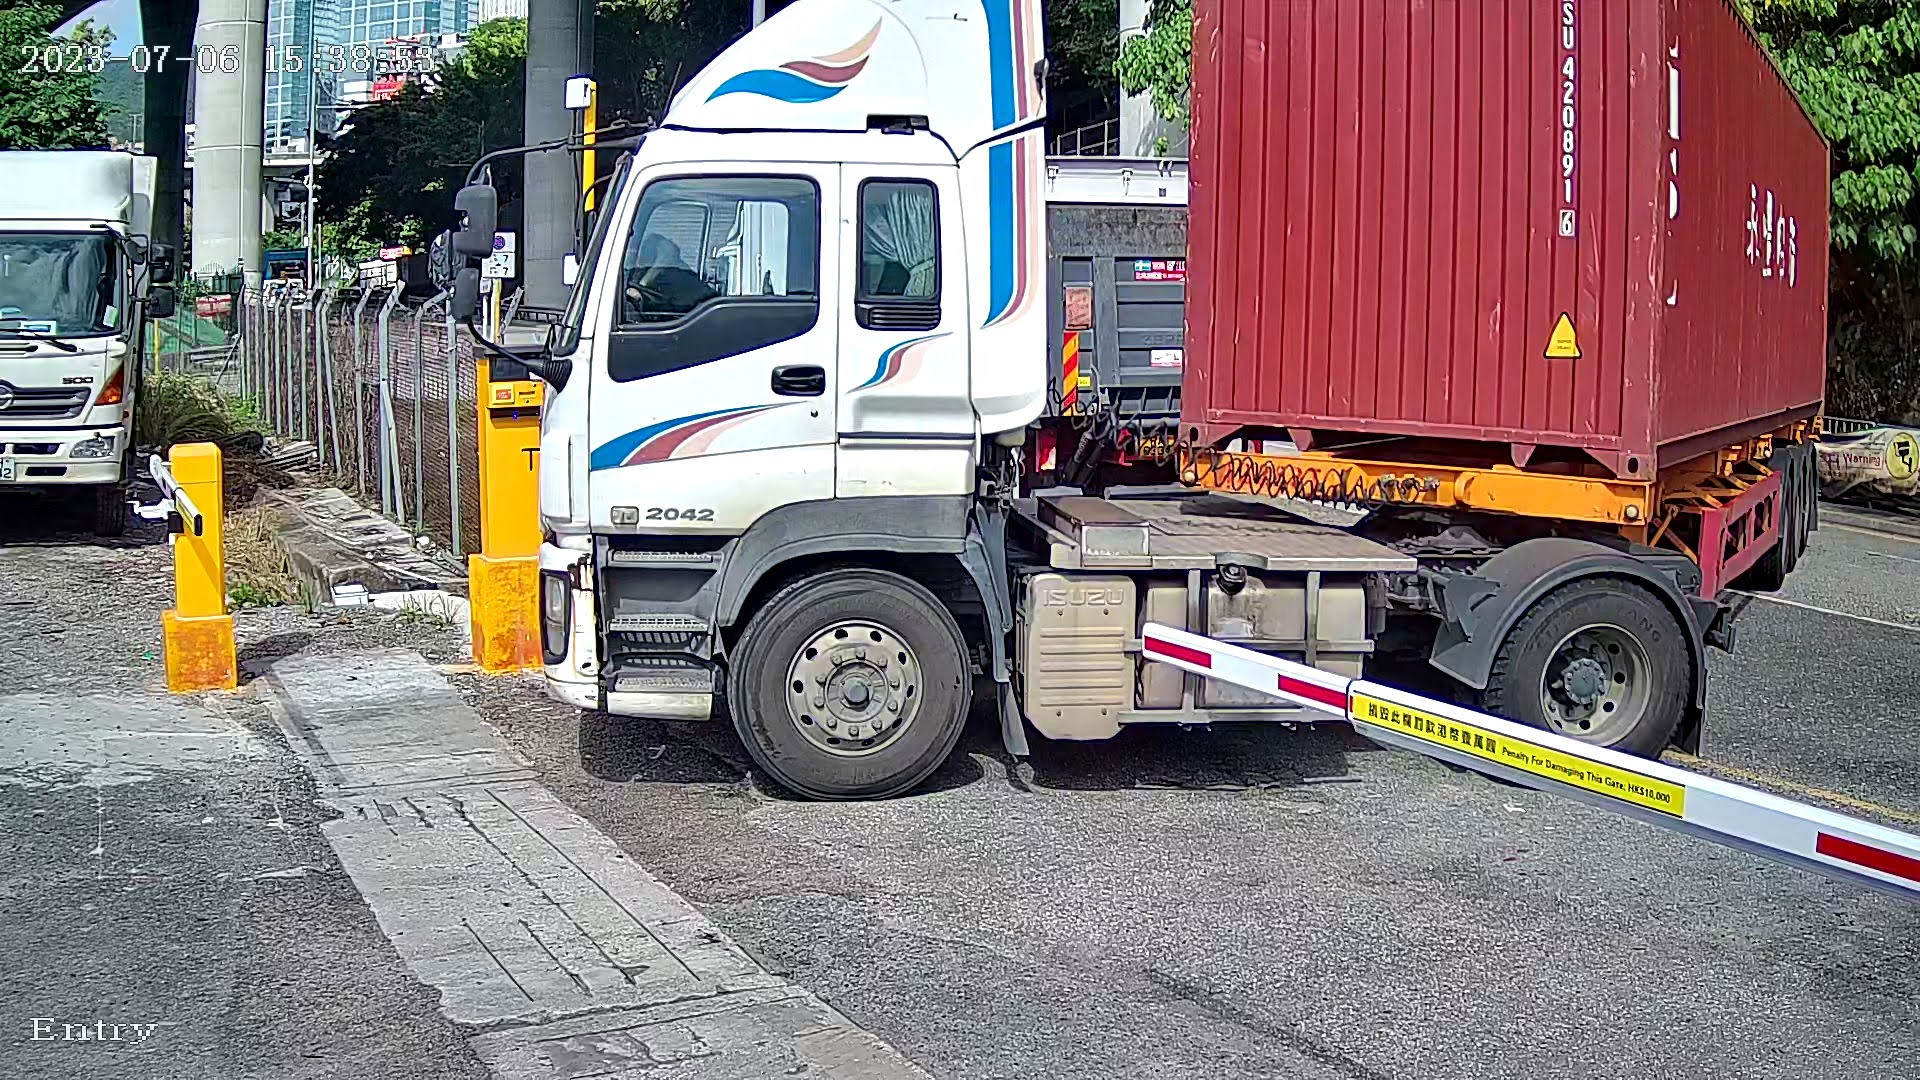truck: (452, 1, 1871, 856)
